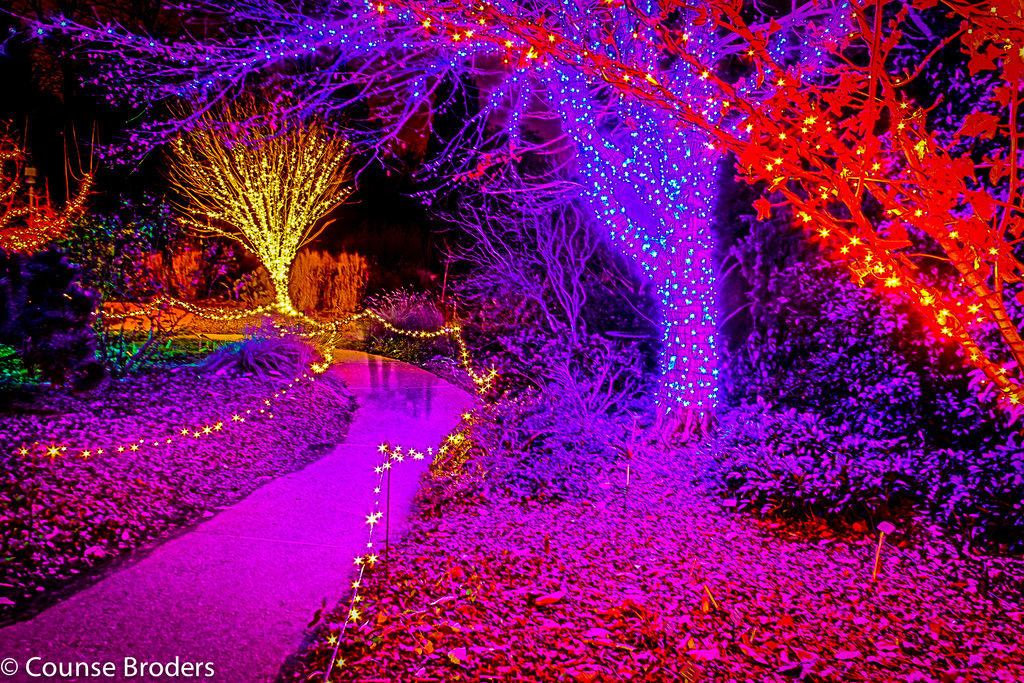Tree: (0, 0, 1023, 682), (168, 79, 344, 304)
